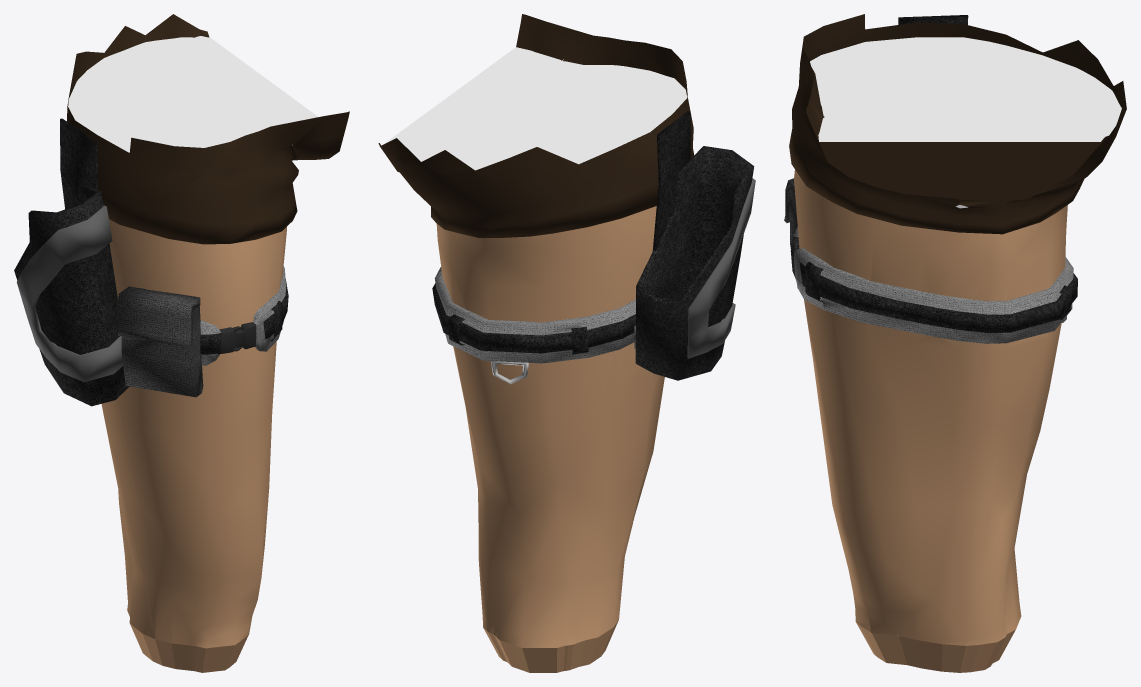
File: leftbigleg.obj
3 views of the same model, side by side, from view 1: azimuth 30°, elevation 25°; view 2: azimuth 150°, elevation 25°; view 3: azimuth 270°, elevation 25° (orthographic). The views are drawn at different scales.
Visible parts, largest first — view 1: Mesh3 Model, Mesh5 Model, Mesh6 Model, Mesh4 Model, Mesh7 Model; view 2: Mesh3 Model, Mesh5 Model, Mesh6 Model, Mesh7 Model; view 3: Mesh3 Model, Mesh5 Model, Mesh4 Model, Mesh7 Model, Mesh8 Model.
Part boxes in pixels (x1,y1,x2,y2): Mesh3 Model: (101,219,288,672); Mesh5 Model: (66,14,349,244); Mesh6 Model: (14,184,129,406); Mesh4 Model: (117,286,203,397); Mesh7 Model: (60,118,97,209); Mesh3 Model: (432,206,668,672); Mesh5 Model: (378,14,694,237); Mesh6 Model: (634,146,755,380); Mesh7 Model: (652,111,690,251); Mesh3 Model: (790,170,1077,672); Mesh5 Model: (789,14,1126,234); Mesh4 Model: (784,178,797,288); Mesh7 Model: (898,15,968,24); Mesh8 Model: (805,262,823,302).
Bounding box in the file's own units: 8.41 × 16.82 × 8.86.
Materials: 9 (3 with a texture image).
